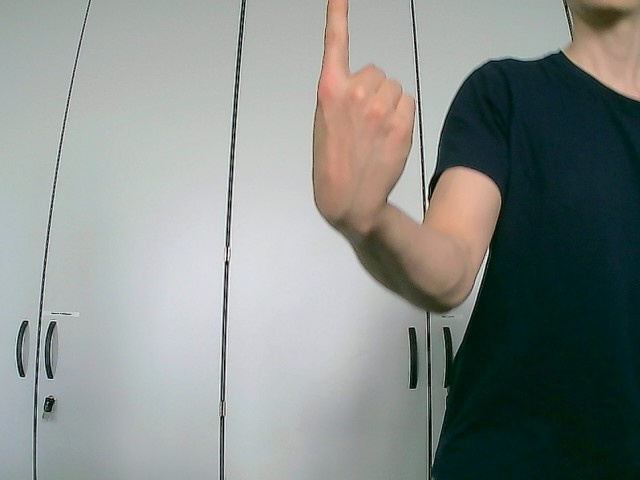up: (310, 0, 417, 235)
